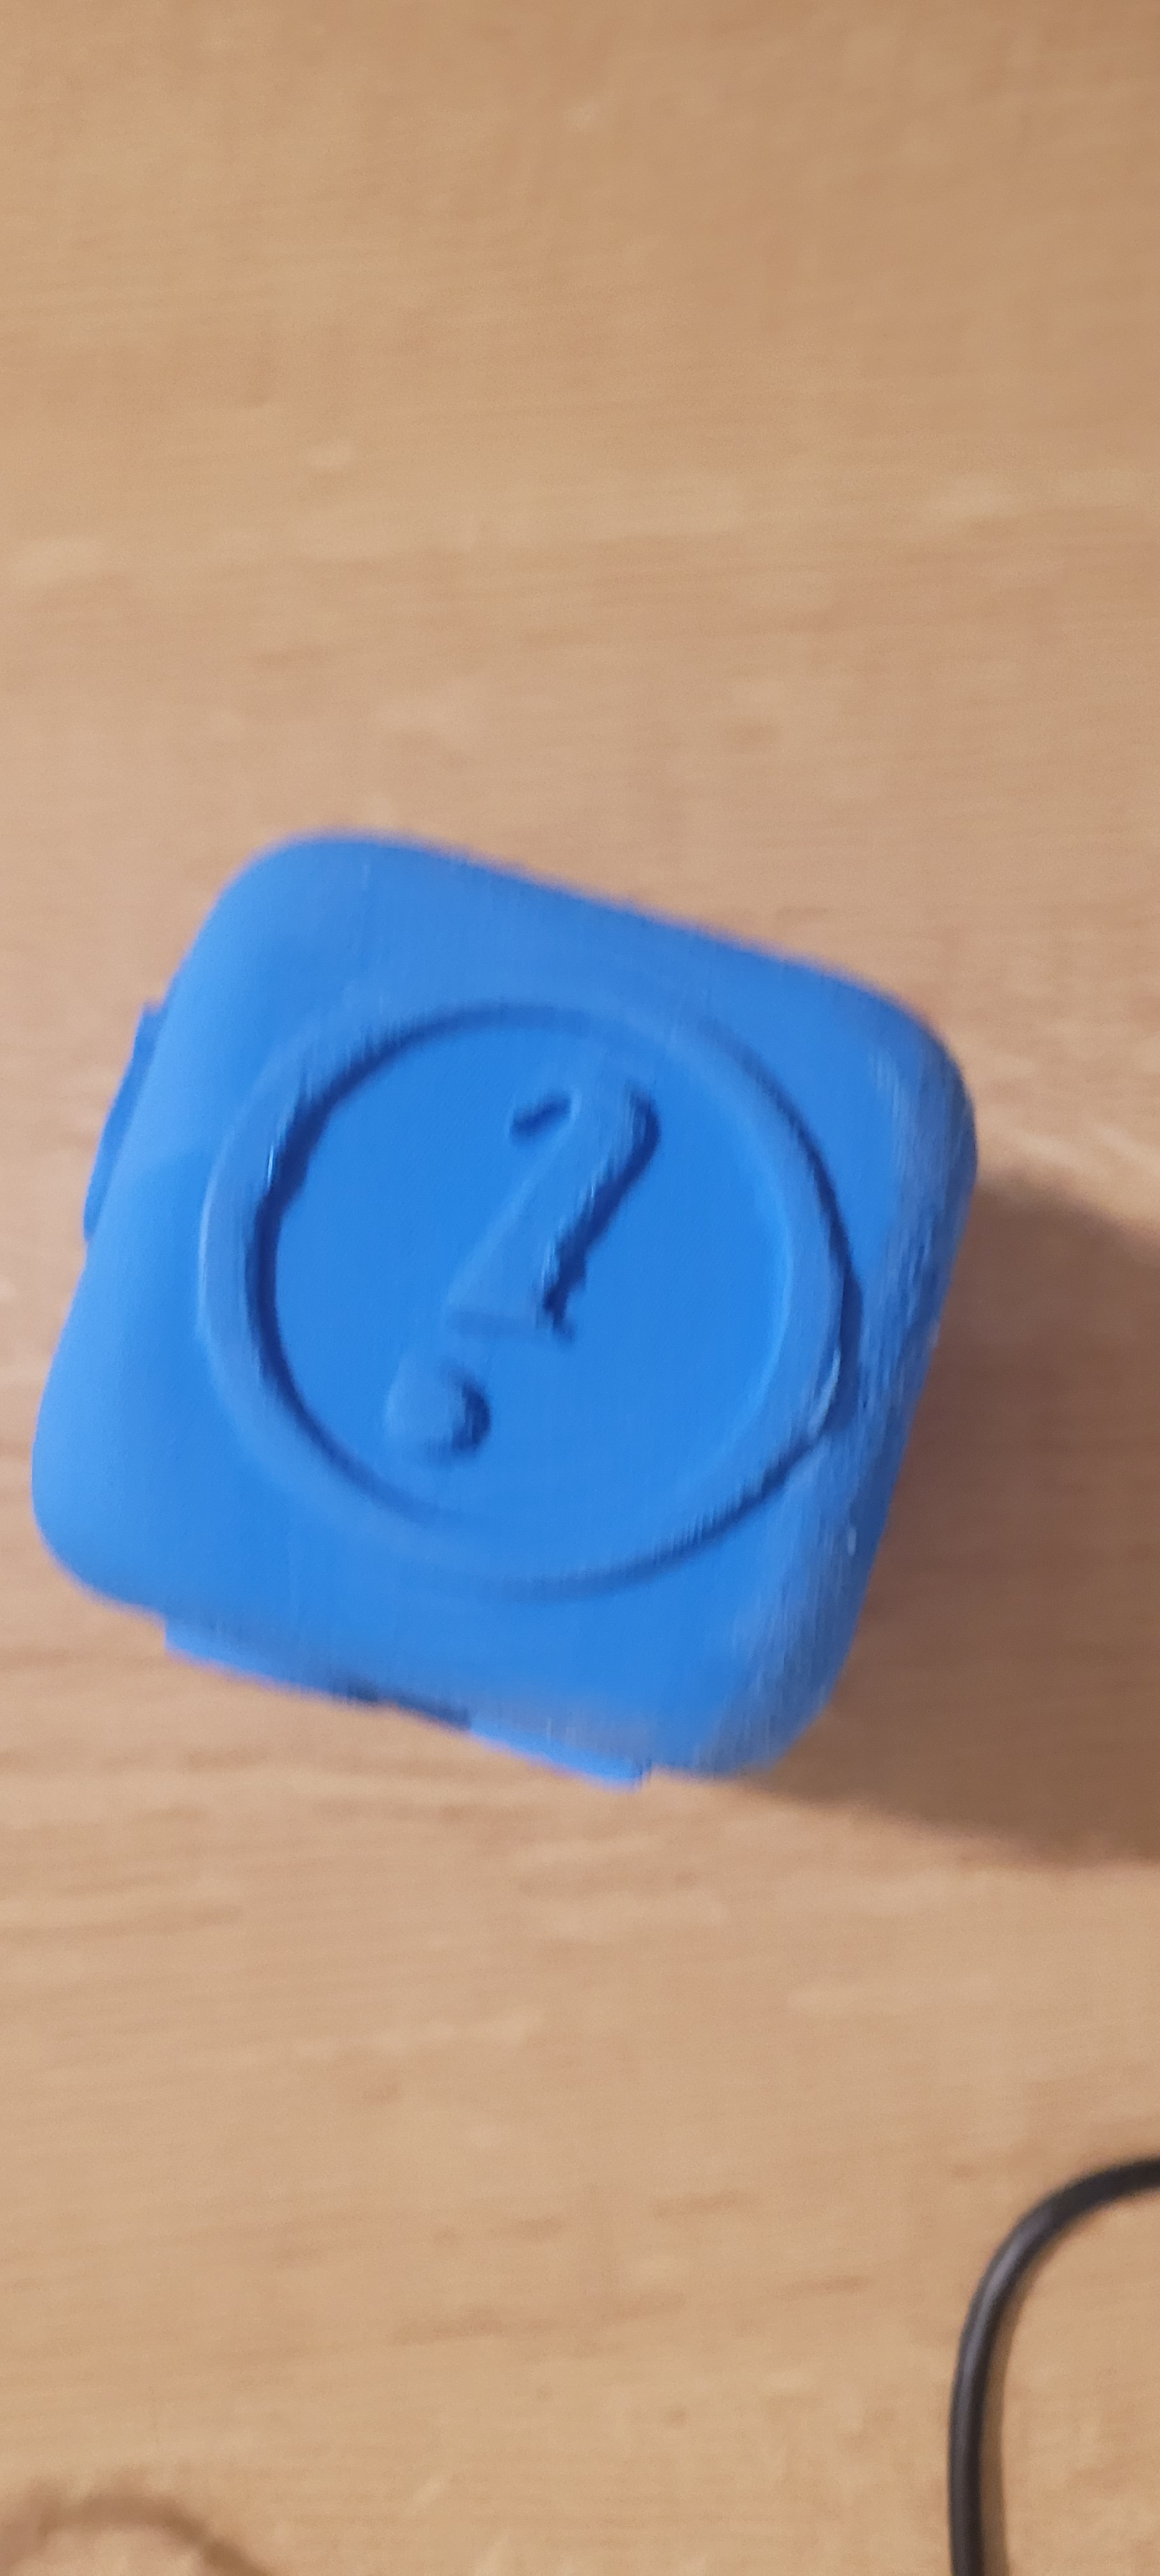Info: (112, 1053, 900, 1552)
